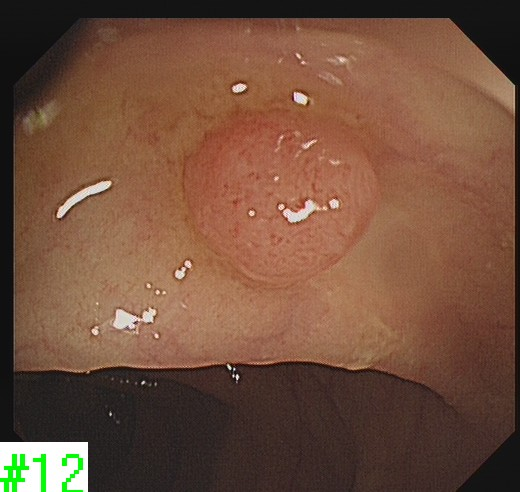adenoma: (177, 102, 384, 288)
